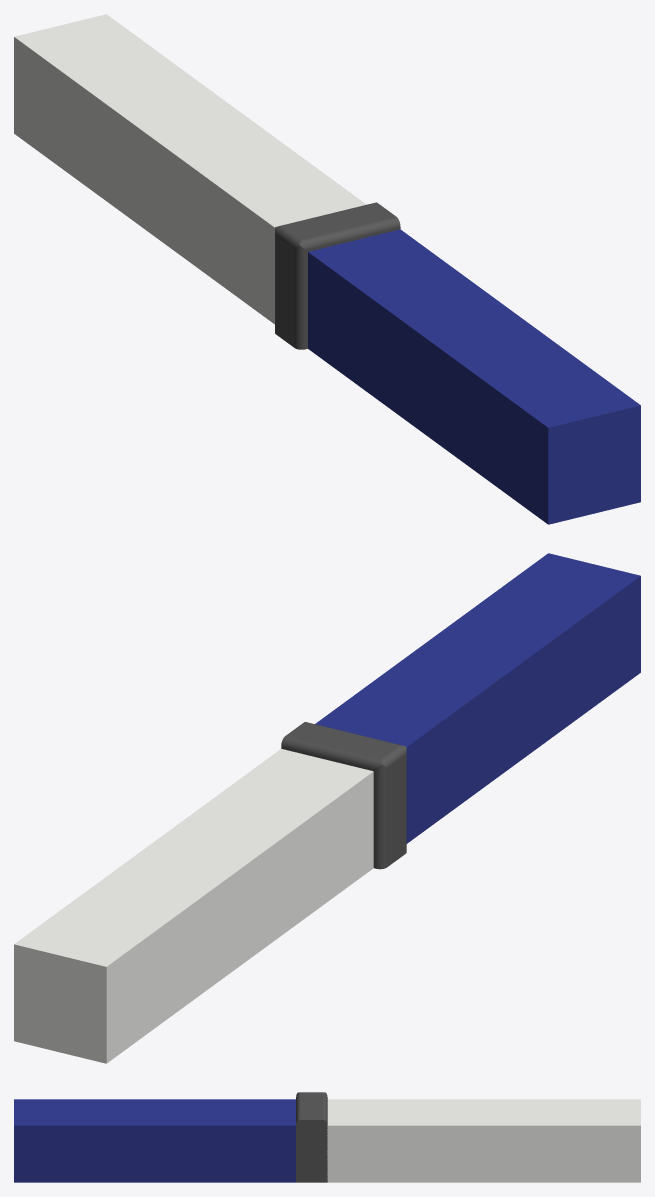
The model's file is Cornor_pillar(Horro_game) v4.fbx.
The picture shows the model from 3 angles, top to bottom: view 1: azimuth 30°, elevation 25°; view 2: azimuth 150°, elevation 25°; view 3: azimuth 270°, elevation 25°; orthographic projection. The views are drawn at different scales.
Parts seen in each view (by area): view 1: Body3, Body2, Body1; view 2: Body2, Body3, Body1; view 3: Body2, Body3, Body1.
Boxes of the visible parts, x1,y1,x2,y2 form: Body3: (308, 229, 640, 524); Body2: (14, 14, 366, 324); Body1: (275, 202, 400, 349); Body2: (14, 749, 373, 1063); Body3: (315, 553, 640, 843); Body1: (281, 722, 406, 869); Body2: (327, 1099, 640, 1182); Body3: (14, 1099, 295, 1182); Body1: (296, 1092, 327, 1182).
Size of the model in its own units: 220 by 220 by 2000.
